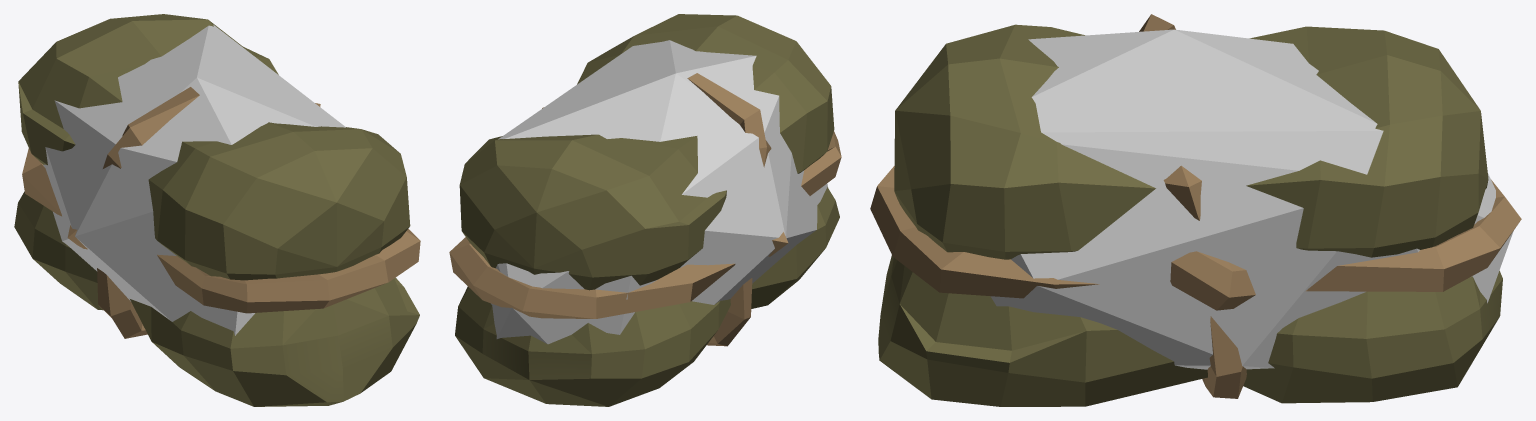
File: SM_Prop_Bundle_04.fbx
3 views of the same model, side by side, from view 1: azimuth 30°, elevation 25°; view 2: azimuth 150°, elevation 25°; view 3: azimuth 270°, elevation 25° (orthographic). The views are drawn at different scales.
Parts seen in each view (by area): view 1: SM_Prop_Bundle_04, SM_Prop_Bundle_04_ConvexHulls; view 2: SM_Prop_Bundle_04, SM_Prop_Bundle_04_ConvexHulls; view 3: SM_Prop_Bundle_04, SM_Prop_Bundle_04_ConvexHulls.
Boxes of the visible parts, x1=… form: SM_Prop_Bundle_04: x1=14, y1=14, x2=420, y2=406; SM_Prop_Bundle_04_ConvexHulls: x1=43, y1=24, x2=345, y2=335; SM_Prop_Bundle_04: x1=449, y1=14, x2=841, y2=406; SM_Prop_Bundle_04_ConvexHulls: x1=491, y1=40, x2=828, y2=344; SM_Prop_Bundle_04: x1=870, y1=14, x2=1521, y2=406; SM_Prop_Bundle_04_ConvexHulls: x1=990, y1=29, x2=1513, y2=369.
Bounding box in the file's own units: 67.46 × 109 × 61.93.
Materials: 2 (1 with a texture image).
